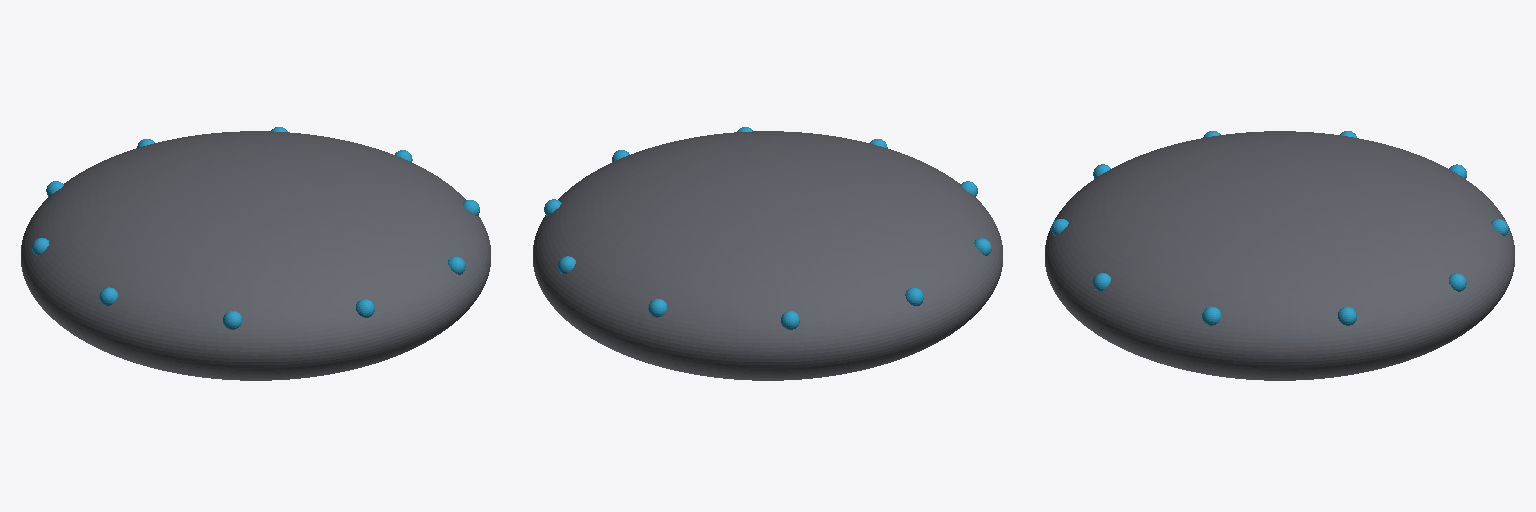
File: ufo.obj
3 renders of one model, left to right at view 1: azimuth 30°, elevation 25°; view 2: azimuth 150°, elevation 25°; view 3: azimuth 270°, elevation 25°, orthographic.
Visible parts, largest first — view 1: Sphere; view 2: Sphere; view 3: Sphere.
Boxes of the visible parts, box(x1,y1,x2,y2) form: Sphere: box(21, 131, 490, 380); Sphere: box(533, 131, 1002, 380); Sphere: box(1045, 131, 1514, 380).
Size of the model in its own units: 9.84 by 3.49 by 9.84.